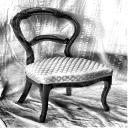chair_success: (9, 4, 117, 125)
